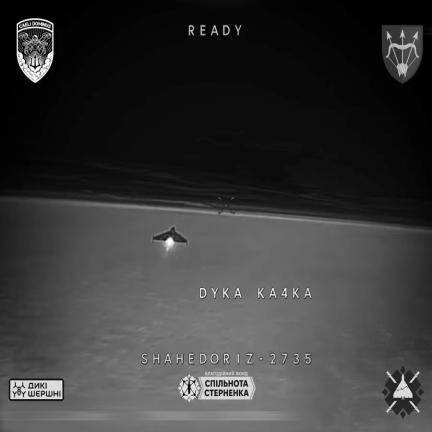Shahed: (152, 227, 188, 250)
